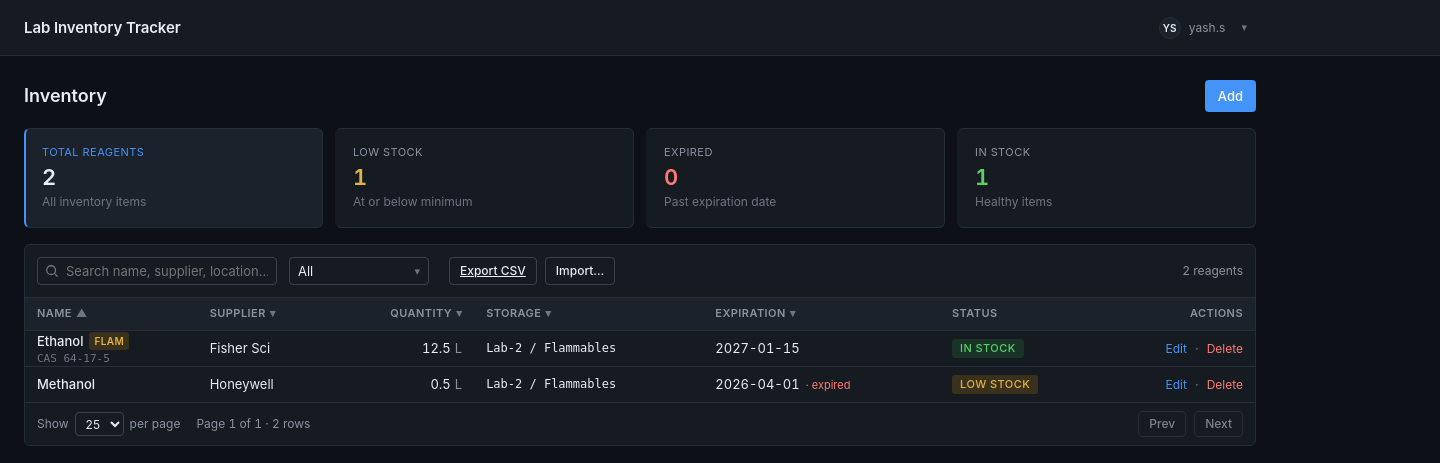
Test: App › filters reagents by status via the styled status menu
Expected: the text "Ethanol" is shown, [37, 332, 83, 348]
Click the button with aria-label "Status filter": {"x": 359, "y": 271} [289, 257, 429, 285]
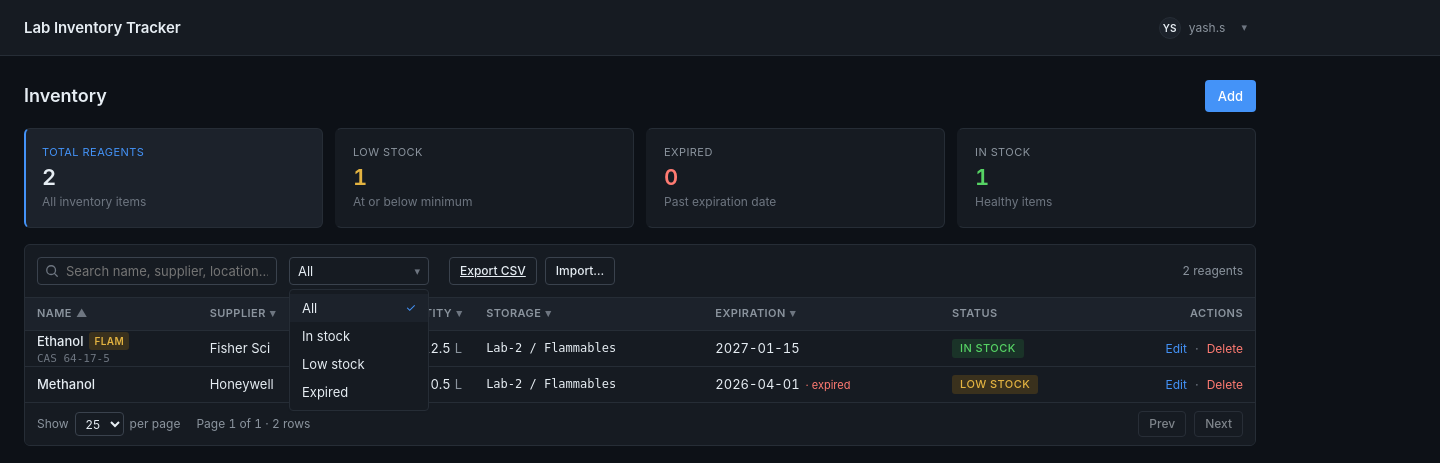
Now the option "All ✓" is shown, box [290, 294, 428, 322]
Now the option "In stock" is shown, box [302, 328, 350, 344]
Now the option "Low stock" is shown
Click the option "Low stock": {"x": 333, "y": 364} [302, 356, 365, 372]
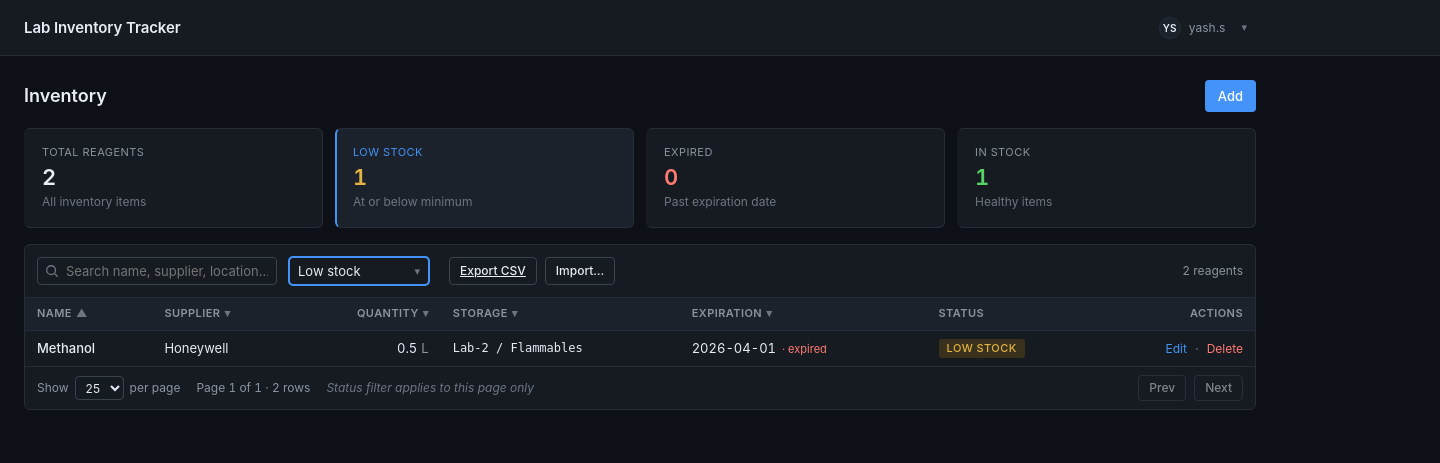
Expected: the text "Methanol" is shown, [25, 330, 152, 366]
Now the list is gone
Now the button with aria-label "Status filter" shows "Low stock", box [289, 257, 429, 285]
